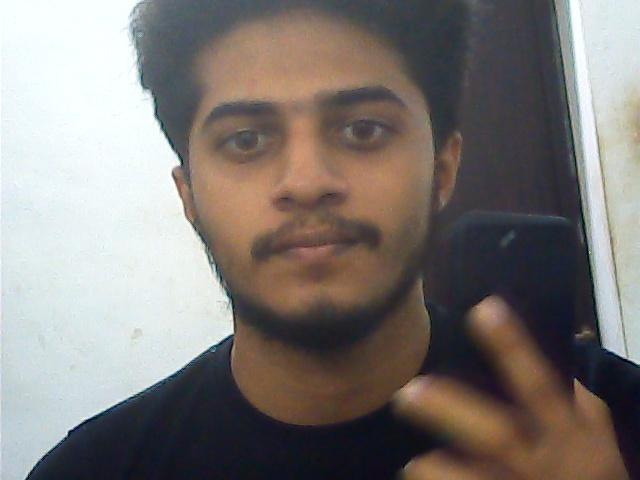PhoneUse: (450, 203, 590, 429)
SafeDriving: (319, 96, 408, 156), (204, 111, 292, 164)
